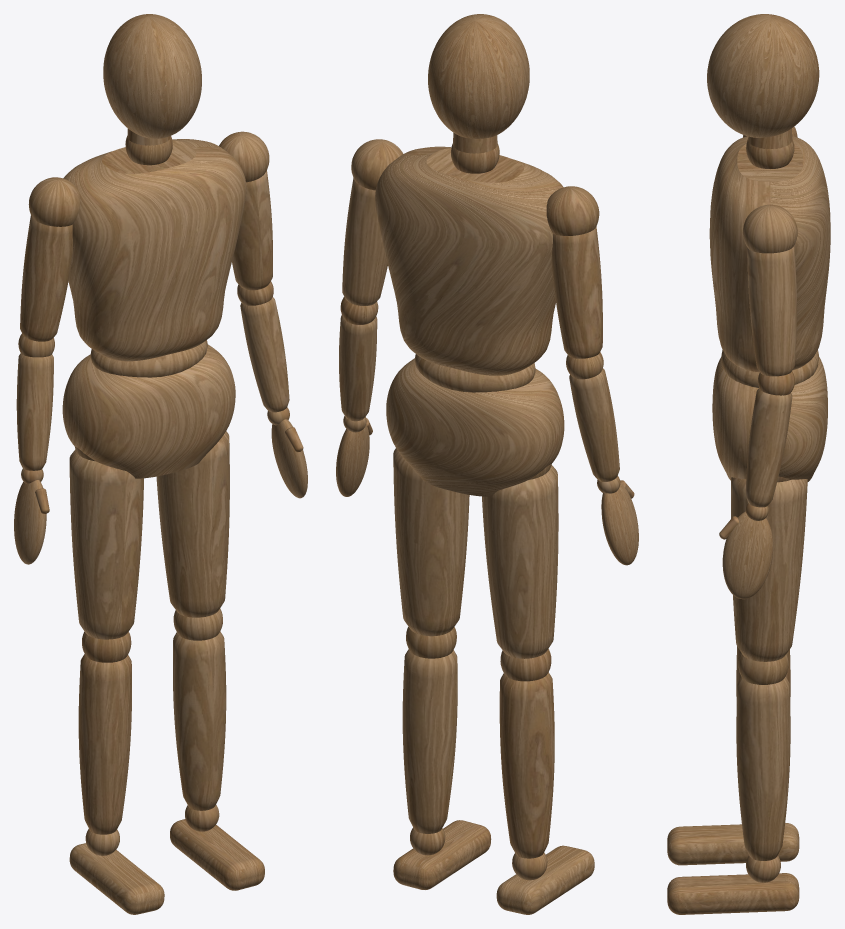
The model's file is avatar.glb.
The picture shows the model from 3 angles, left to right: view 1: azimuth 30°, elevation 25°; view 2: azimuth 150°, elevation 25°; view 3: azimuth 270°, elevation 25°; orthographic projection. The views are drawn at different scales.
Visible parts, largest first — view 1: spine, hips, hip_R, hip_L, head, knee_R, knee_L, shoulder_R, shoulder_L, elbow_R, elbow_L, foot_L (+6 smaller); view 2: spine, hips, hip_R, hip_L, head, knee_R, knee_L, shoulder_R, shoulder_L, elbow_R, elbow_L, foot_R (+6 smaller); view 3: spine, head, knee_L, hip_L, shoulder_L, hips, foot_L, elbow_L, foot_R, hand_L, neck, ankle_L (+1 smaller).
Boxes of the visible parts, bbox=[...] form: spine: bbox=[63, 139, 246, 377]; hips: bbox=[62, 344, 235, 478]; hip_R: bbox=[69, 446, 143, 639]; hip_L: bbox=[156, 431, 229, 617]; head: bbox=[103, 14, 201, 138]; knee_R: bbox=[78, 631, 131, 834]; knee_L: bbox=[173, 608, 226, 810]; shoulder_R: bbox=[20, 177, 79, 341]; shoulder_L: bbox=[219, 131, 272, 290]; elbow_R: bbox=[16, 333, 54, 470]; elbow_L: bbox=[237, 281, 289, 412]; foot_L: bbox=[170, 819, 264, 890]; spine: bbox=[375, 146, 563, 392]; hips: bbox=[386, 358, 564, 496]; hip_R: bbox=[482, 464, 558, 658]; hip_L: bbox=[393, 448, 469, 636]; head: bbox=[428, 14, 529, 138]; knee_R: bbox=[499, 649, 554, 858]; knee_L: bbox=[402, 627, 457, 833]; shoulder_R: bbox=[546, 186, 602, 358]; shoulder_L: bbox=[342, 139, 403, 305]; elbow_R: bbox=[566, 352, 619, 481]; elbow_L: bbox=[339, 297, 378, 421]; foot_R: bbox=[496, 845, 594, 914]; spine: bbox=[709, 136, 830, 387]; head: bbox=[707, 14, 819, 137]; knee_L: bbox=[736, 652, 790, 860]; hip_L: bbox=[731, 476, 807, 661]; shoulder_L: bbox=[742, 204, 797, 376]; hips: bbox=[712, 357, 827, 481]; foot_L: bbox=[667, 873, 799, 914]; elbow_L: bbox=[745, 371, 794, 507]; foot_R: bbox=[667, 823, 799, 865]; hand_L: bbox=[722, 511, 773, 599]; neck: bbox=[746, 128, 794, 168]; ankle_L: bbox=[746, 855, 780, 882].
Size of the model in its own units: 0.6071 by 1.74 by 0.2973.
Materials: 1 (1 with a texture image).
